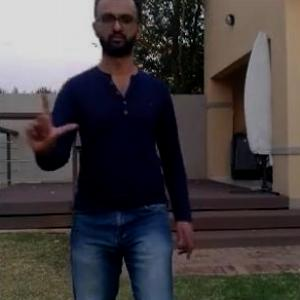land_hand: (16, 82, 84, 158)
